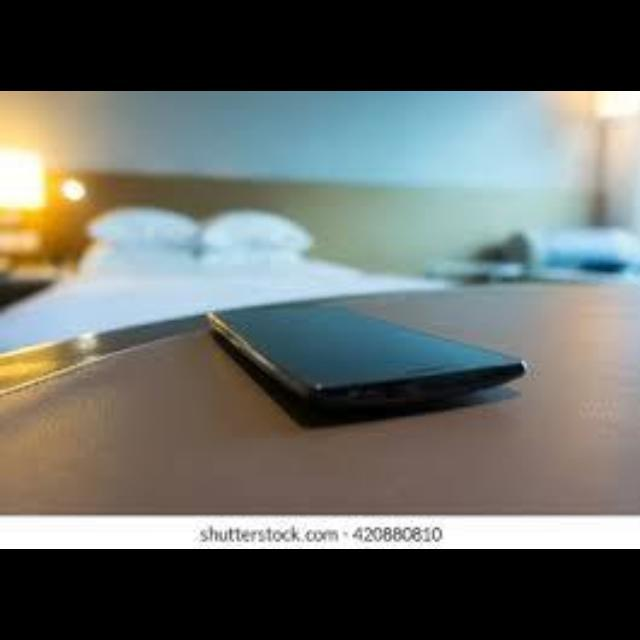Phone: (184, 302, 536, 430)
